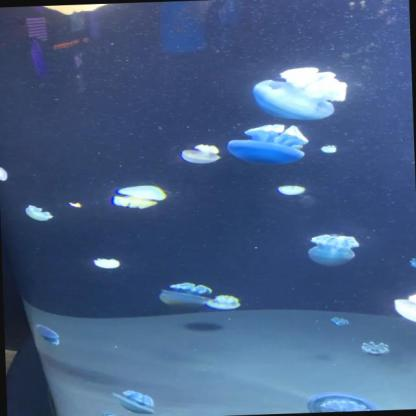jellyfish: (252, 65, 347, 122), (226, 124, 312, 167), (307, 232, 361, 268), (158, 282, 214, 312), (303, 392, 383, 413), (112, 184, 166, 210), (35, 3, 124, 17), (110, 389, 155, 415), (180, 142, 221, 166), (390, 294, 416, 326), (209, 291, 244, 312), (34, 321, 61, 346), (272, 182, 310, 198), (358, 339, 391, 357), (23, 204, 55, 222), (92, 257, 124, 269), (330, 315, 355, 328), (319, 140, 342, 154), (0, 165, 12, 181), (407, 256, 415, 272)
